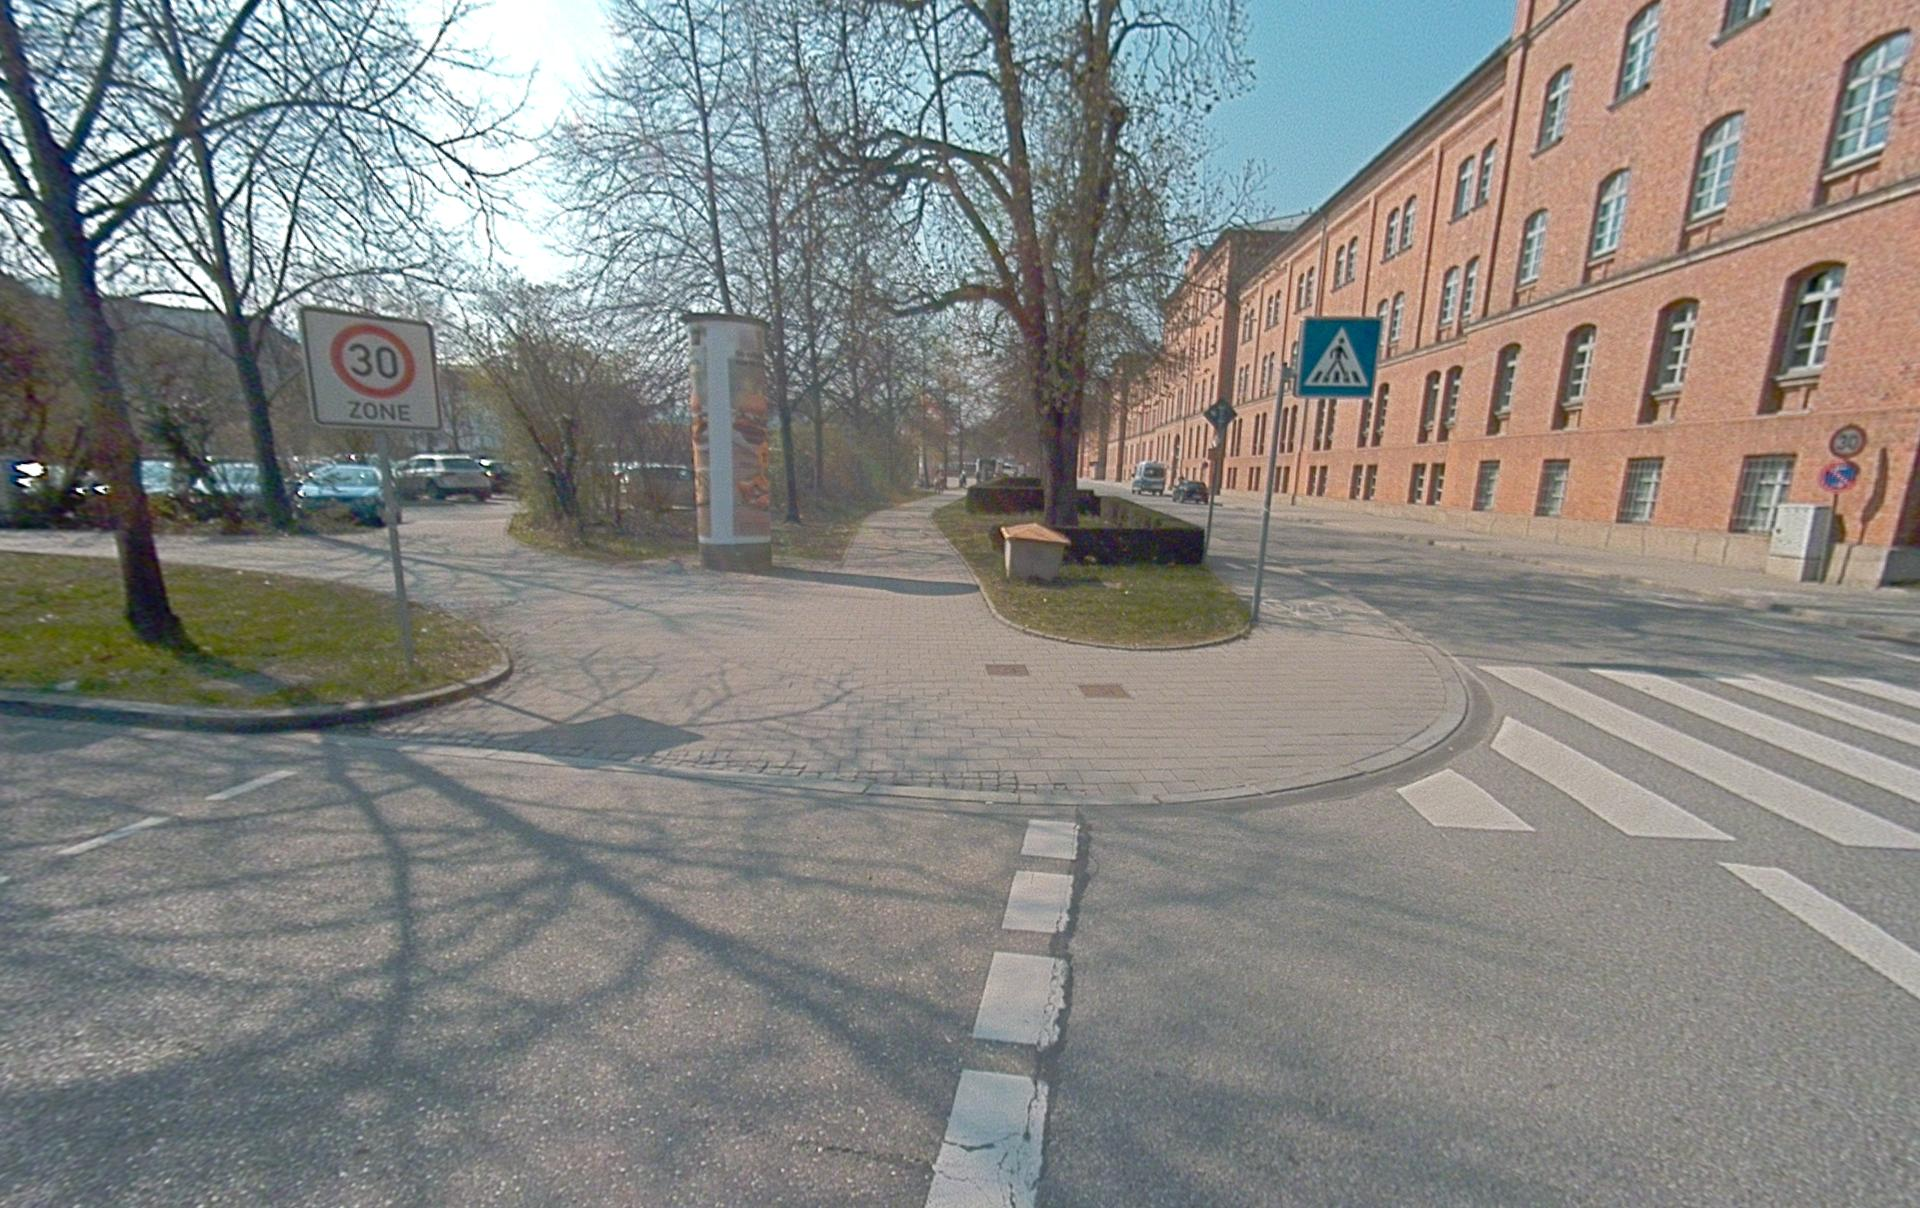car: (294, 463, 397, 527), (394, 454, 494, 502), (477, 458, 513, 493), (1131, 461, 1166, 495), (1171, 480, 1209, 504)
traffic sign: (299, 305, 442, 431), (1295, 316, 1379, 399)
